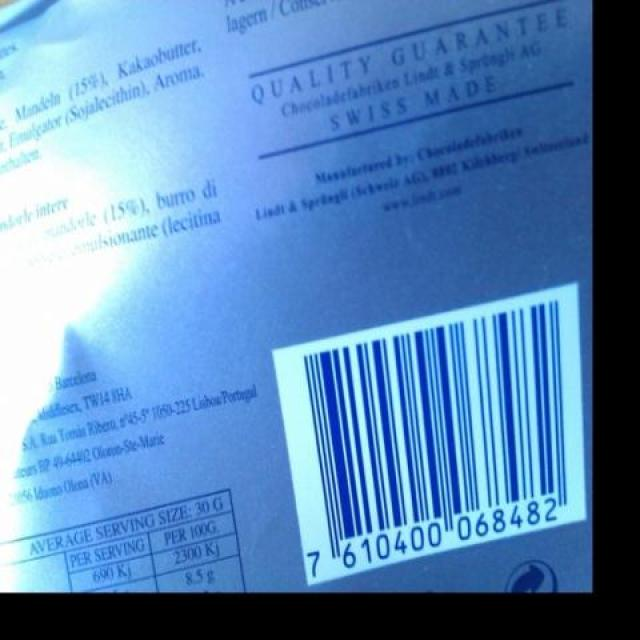Barcode: (272, 283, 588, 585)
